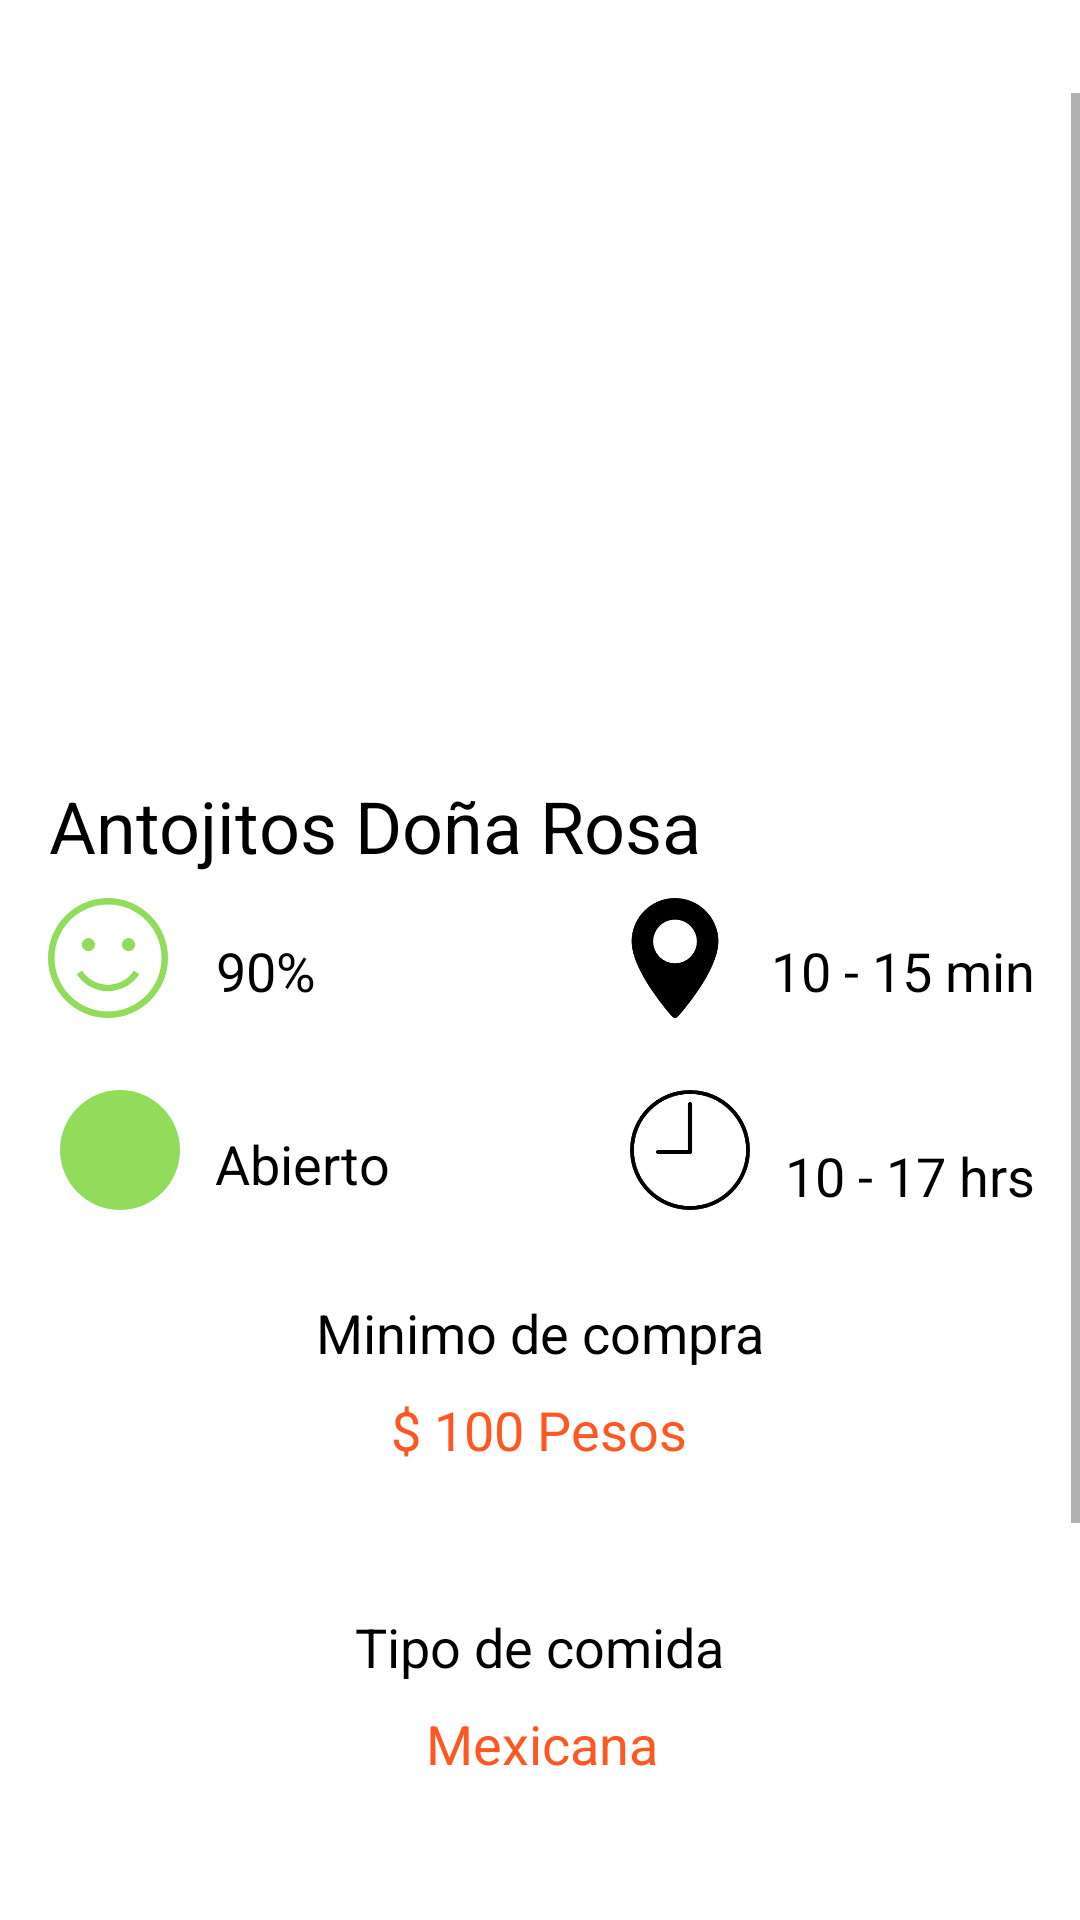

Point at icon controls on the screen. Image size 1080px×1920px, points as (x=x, y=y).
clock: (x=690, y=1150)
happy: (x=108, y=958)
maps: (x=675, y=958)
